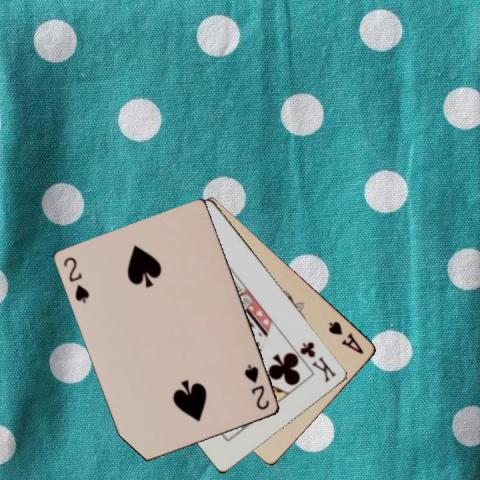2s: (61, 254, 92, 304), (242, 361, 272, 412)
As: (326, 318, 365, 356)
Kc: (297, 339, 338, 384)
